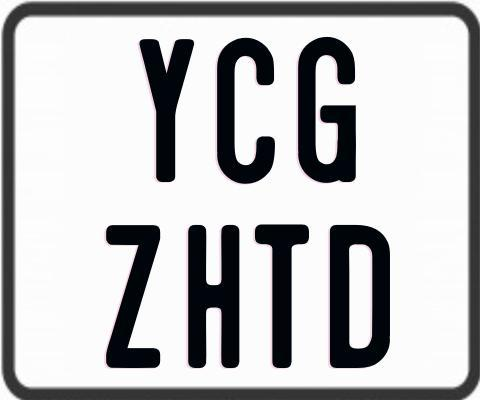C: (217, 35, 281, 185)
D: (327, 223, 390, 367)
G: (295, 34, 359, 184)
H: (187, 222, 240, 365)
T: (253, 224, 313, 368)
Y: (139, 37, 199, 185)
Z: (104, 222, 159, 365)
